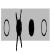correct: (28, 17, 34, 37)
not correct: (16, 8, 22, 53)
